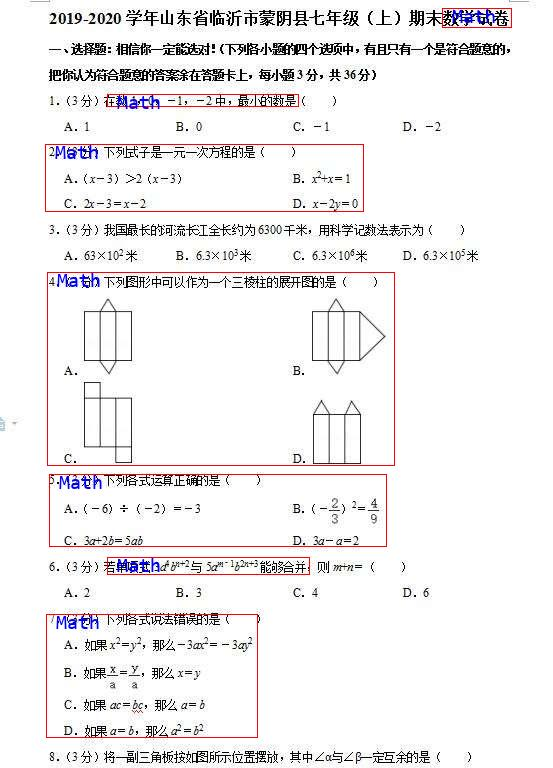Math: (47, 272, 394, 465), (46, 614, 257, 737), (49, 474, 386, 546), (45, 144, 363, 211), (107, 557, 309, 574), (107, 94, 298, 106), (442, 8, 511, 27)
